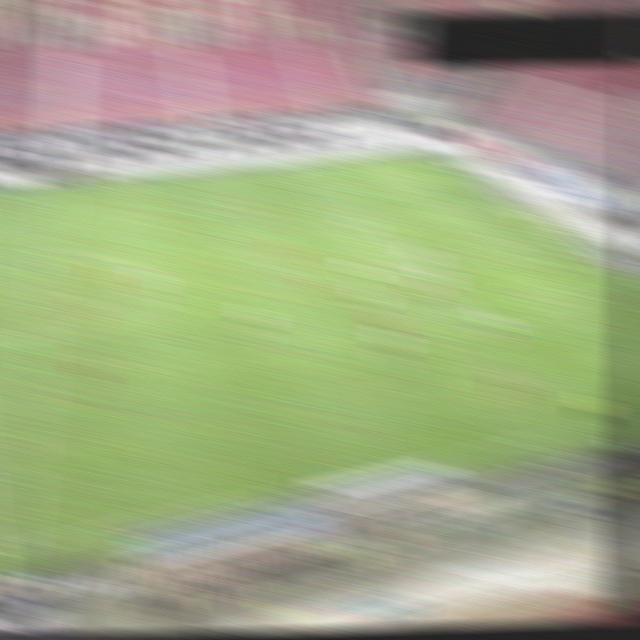bigarea_bottom_inner: (469, 316, 517, 353)
bigarea_top_inner: (333, 182, 365, 201)
bigarea_top_outter: (447, 171, 479, 188)
bottom_arc_area_intersection: (413, 263, 443, 283)
corner: (405, 146, 438, 163)
halfcircle_bottom: (19, 320, 60, 350)
halfcircle_top: (29, 241, 68, 268)
midline_bottom_intersection: (0, 536, 35, 558)
midline_top_intersection: (40, 174, 74, 196)
smallarea_bottom_inner: (523, 255, 558, 279)
smallarea_bottom_outter: (572, 252, 606, 271)
smallarea_top_inner: (448, 201, 479, 220)
smallarea_top_outter: (485, 196, 518, 214)
top_arc_area_intersection: (366, 214, 397, 232)
